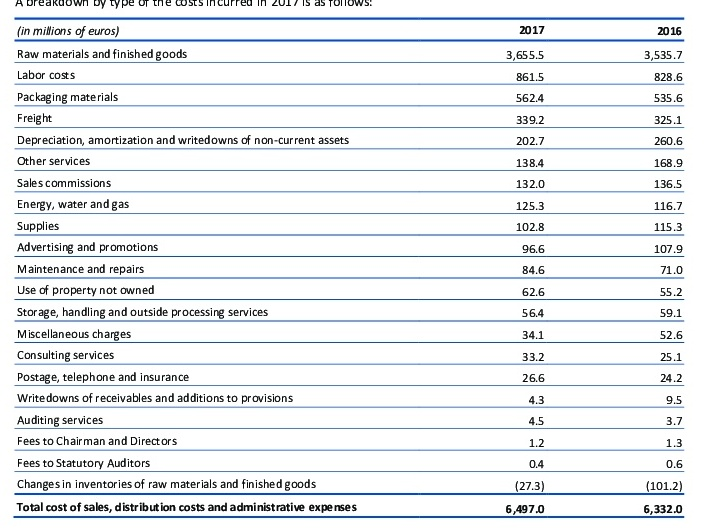table: (0, 0, 704, 530)
